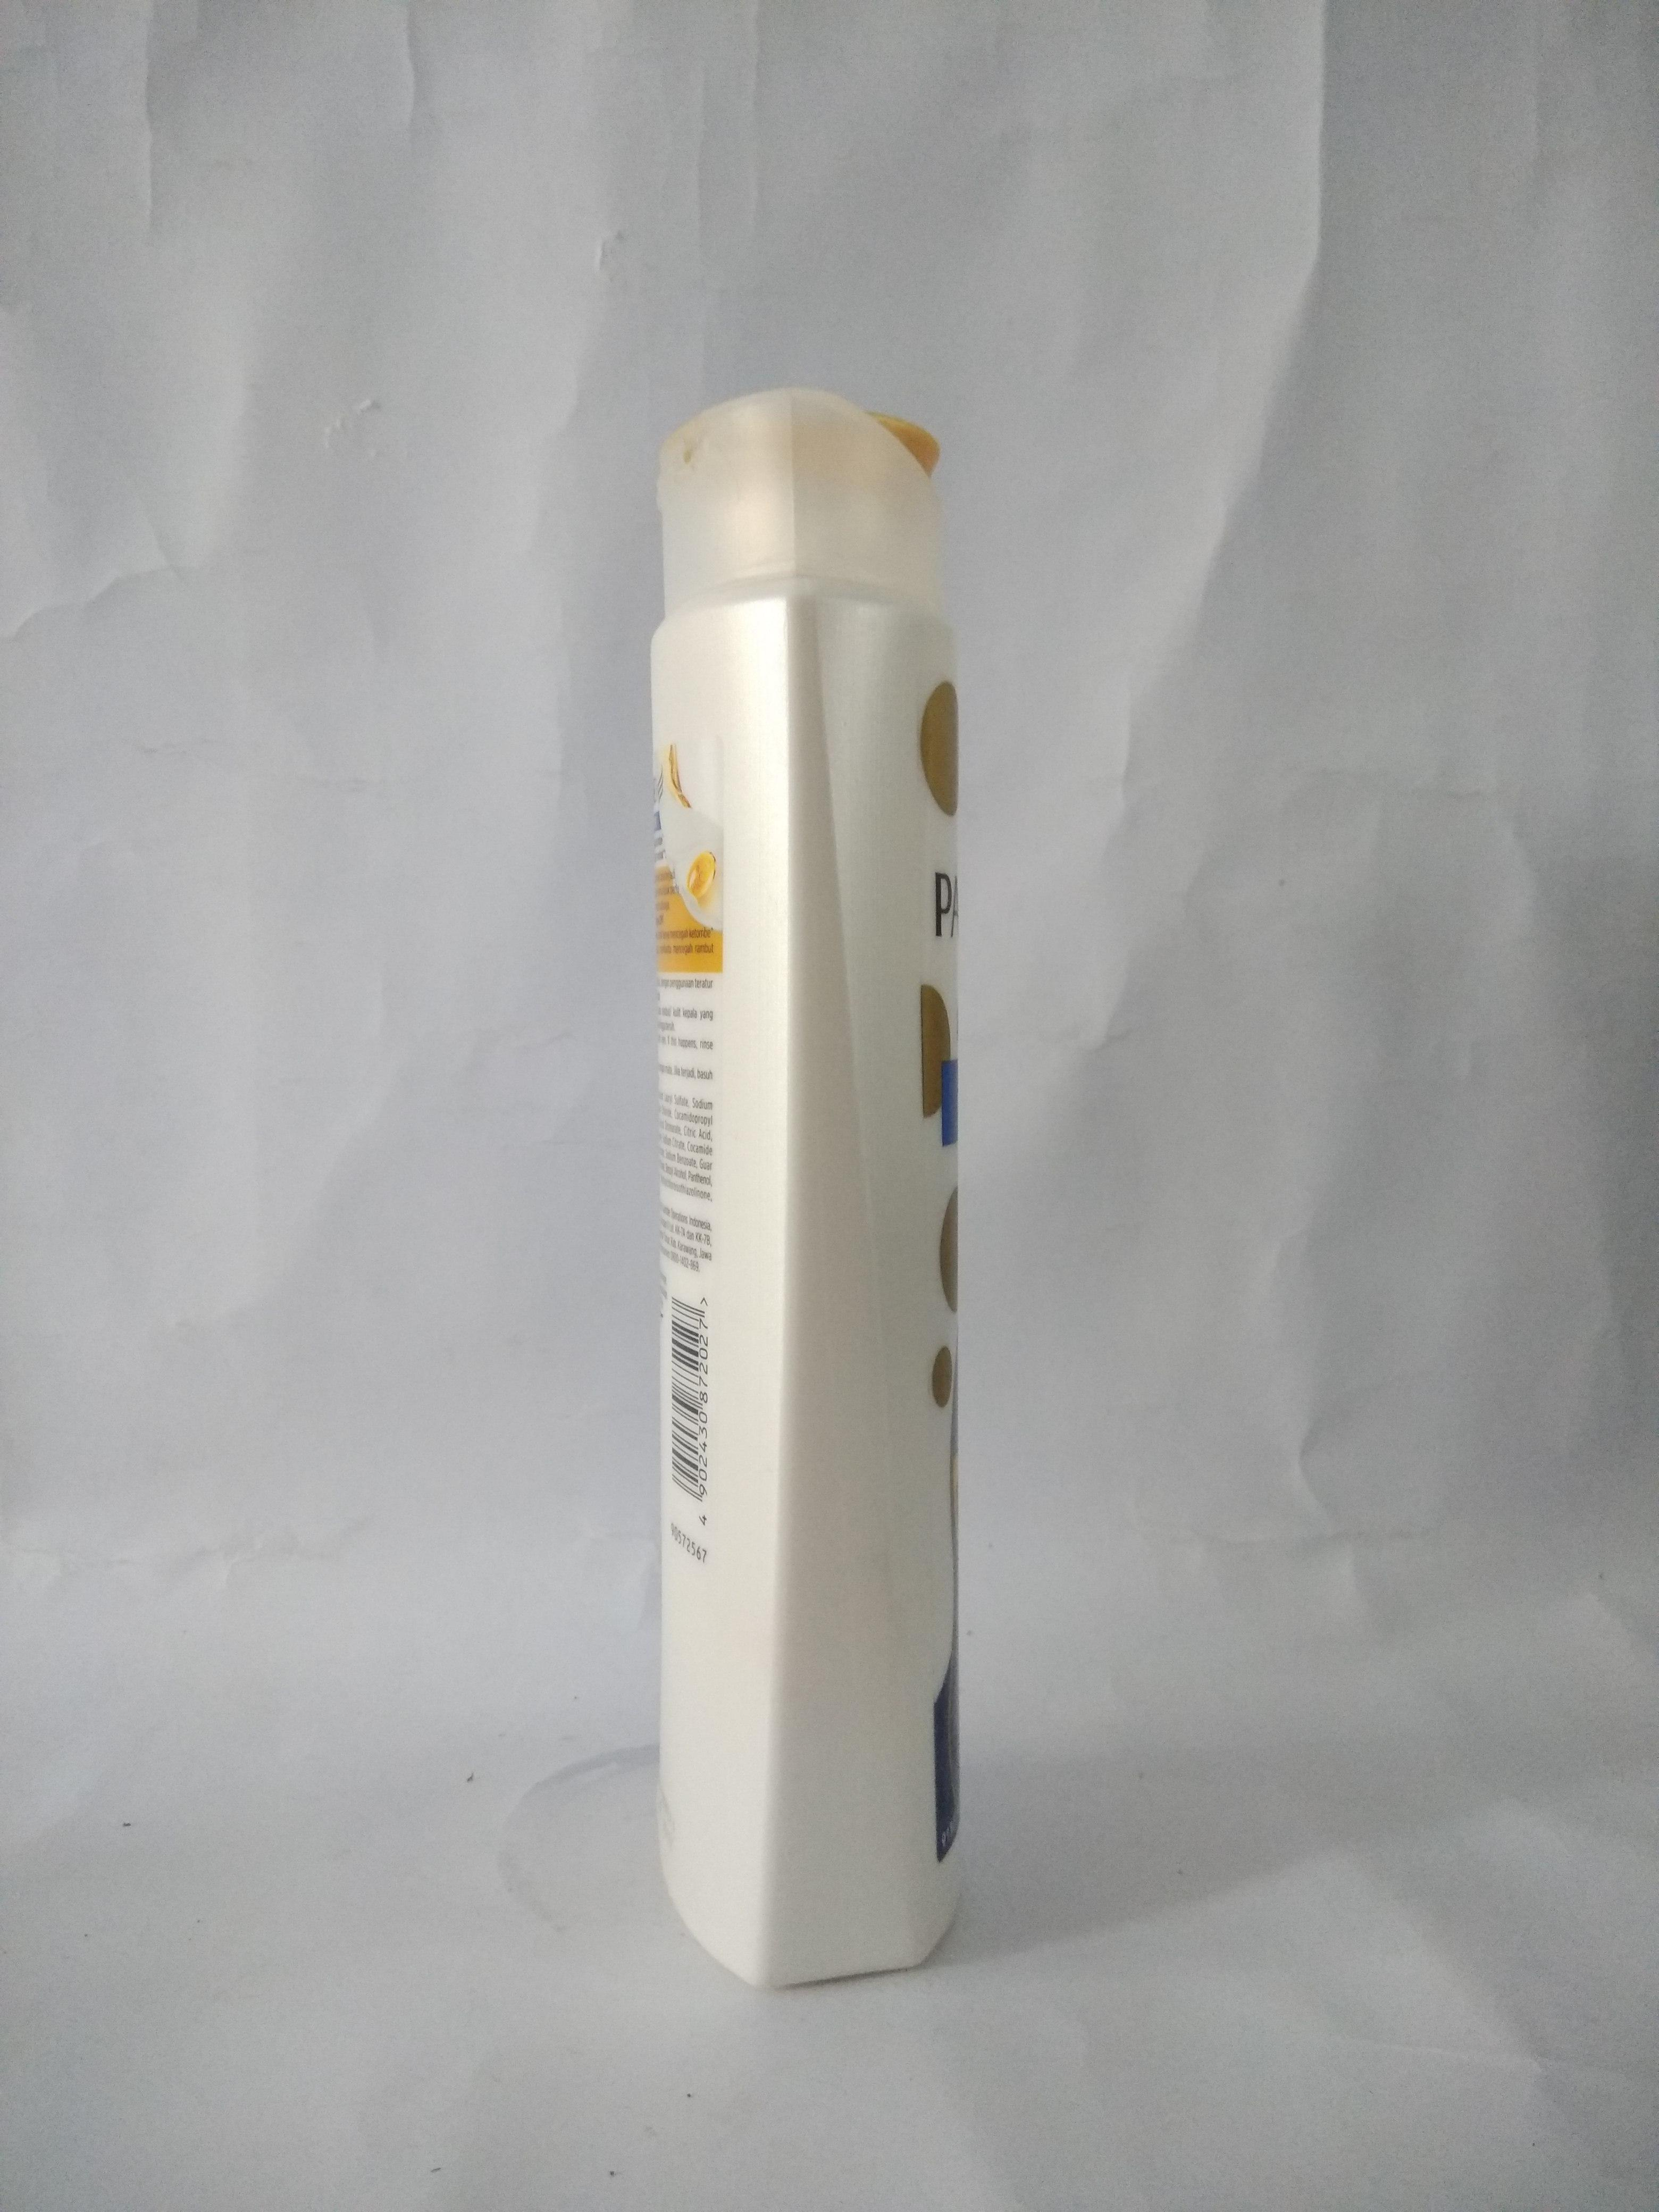HDPE: (653, 585, 962, 1984), (659, 388, 943, 610)
